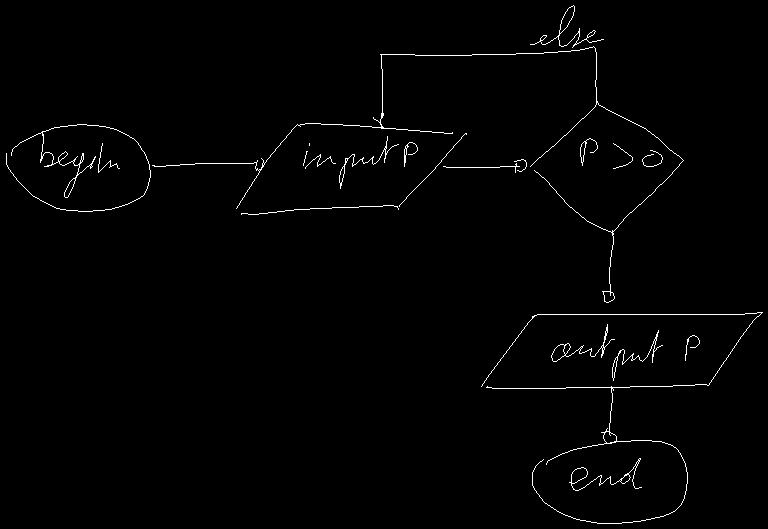arrow: (373, 46, 596, 128), (152, 158, 263, 170), (443, 159, 526, 172), (602, 230, 614, 302), (601, 386, 616, 443)
data: (481, 312, 762, 388), (236, 123, 466, 214)
decision: (530, 101, 683, 232)
terminator: (532, 440, 687, 523), (6, 124, 150, 211)
text: (551, 324, 699, 380), (303, 136, 417, 188), (40, 131, 119, 197), (530, 5, 603, 47), (580, 138, 662, 168), (569, 458, 641, 490)
